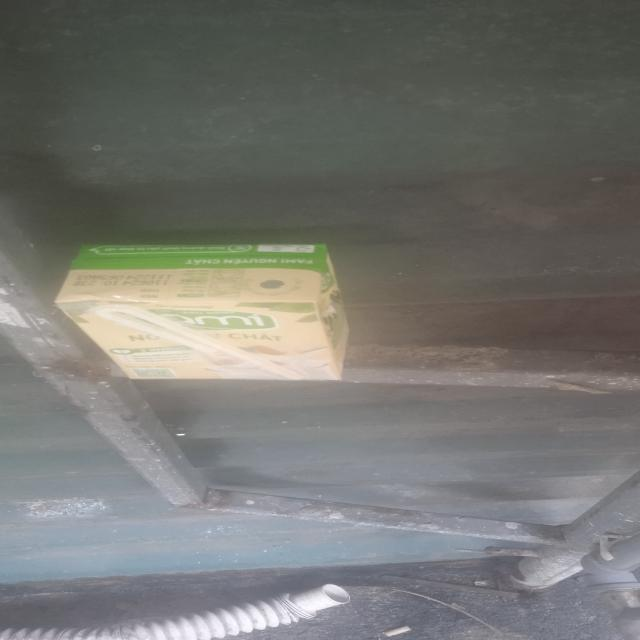Fami: (54, 241, 358, 386)
